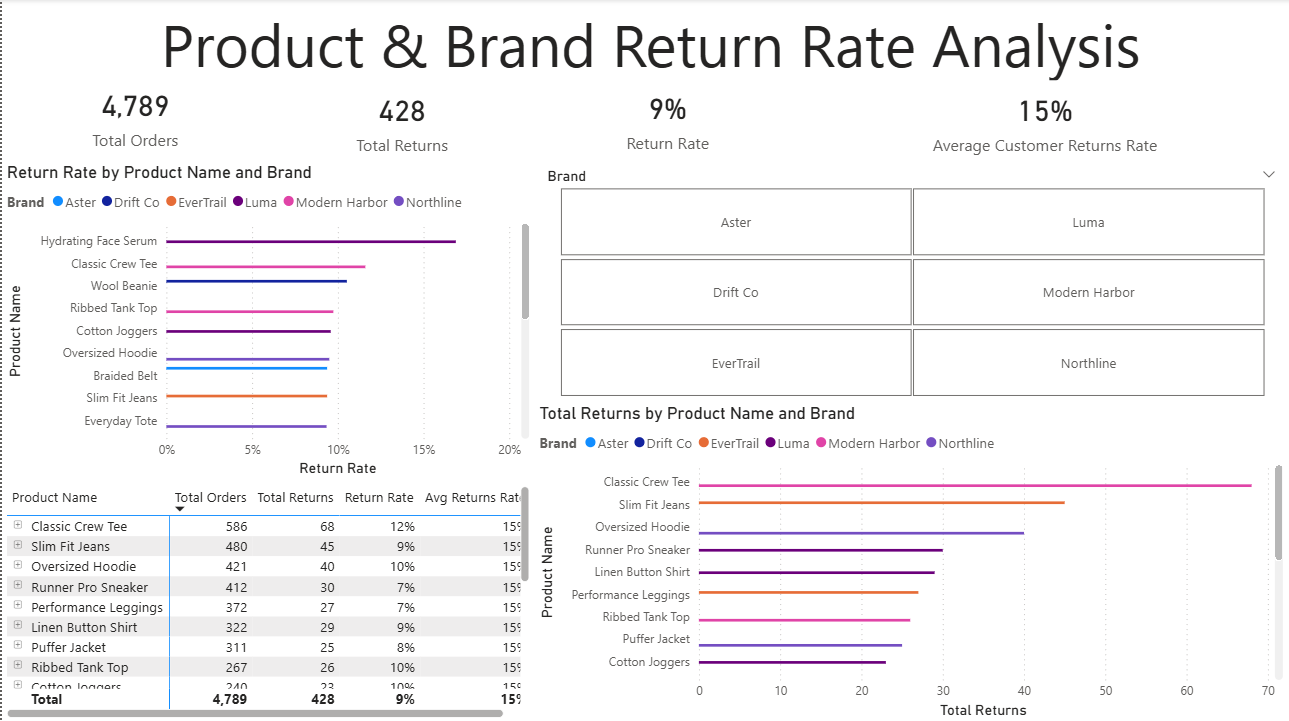

The dashboard page shown, as its layout file describes it:
{"tool":"powerbi","page":{"name":"Product & Brand Return Rate Analysis","canvas":[1280,720],"ordinal":2},"visuals":[{"type":"clusteredBarChart","fields":{"Category":["products.product_name"],"Y":["Measures (3).Return Rate"],"Series":["products.brand"]},"box":[0,161.4,530,318.6],"z":0},{"type":"clusteredBarChart","fields":{"Category":["products.product_name"],"Y":["Measures (3).Total Returns"],"Series":["products.brand"]},"box":[530,401.4,750,318.6],"z":1000},{"type":"slicer","fields":{"Values":["products.brand"]},"box":[530,162.5,750,238.8],"z":2000},{"type":"textbox","box":[152.5,0,1085,161.2],"z":3000},{"type":"card","fields":{"Values":["Measures (3).Total Orders"]},"box":[0,70,265.7,91.4],"z":4000},{"type":"card","fields":{"Values":["Measures (3).Total Returns"]},"box":[265.7,81.4,264.3,80],"z":5000},{"type":"card","fields":{"Values":["Measures (3).Return Rate"]},"box":[530,75.7,265.7,85.7],"z":6000},{"type":"card","fields":{"Values":["Measures (3).Average Customer Returns Rate"]},"box":[811.4,81.4,454.3,80],"z":7000},{"type":"pivotTable","fields":{"Rows":["products.product_name","products.brand"],"Values":["Measures (3).Total Orders","Measures (3).Total Returns","Measures (3).Return Rate","Measures (3).Average Customer Returns Rate"]},"box":[0,480,530,240],"z":8000}]}

Visuals, with their boxes in screenshot pixels (x1, y1, x2, y2), scaled from the page's 1280x720 canvas onto the 1289x721 screenshot:
clusteredBarChart - products.product_name x Measures (3).Return Rate: bbox(0, 162, 534, 481)
clusteredBarChart - products.product_name x Measures (3).Total Returns: bbox(534, 402, 1288, 720)
slicer - products.brand: bbox(534, 163, 1288, 402)
textbox: bbox(154, 0, 1246, 161)
card - Measures (3).Total Orders: bbox(0, 70, 268, 162)
card - Measures (3).Total Returns: bbox(268, 82, 534, 162)
card - Measures (3).Return Rate: bbox(534, 76, 801, 162)
card - Measures (3).Average Customer Returns Rate: bbox(817, 82, 1275, 162)
pivotTable - products.product_name x products.brand: bbox(0, 481, 534, 720)
